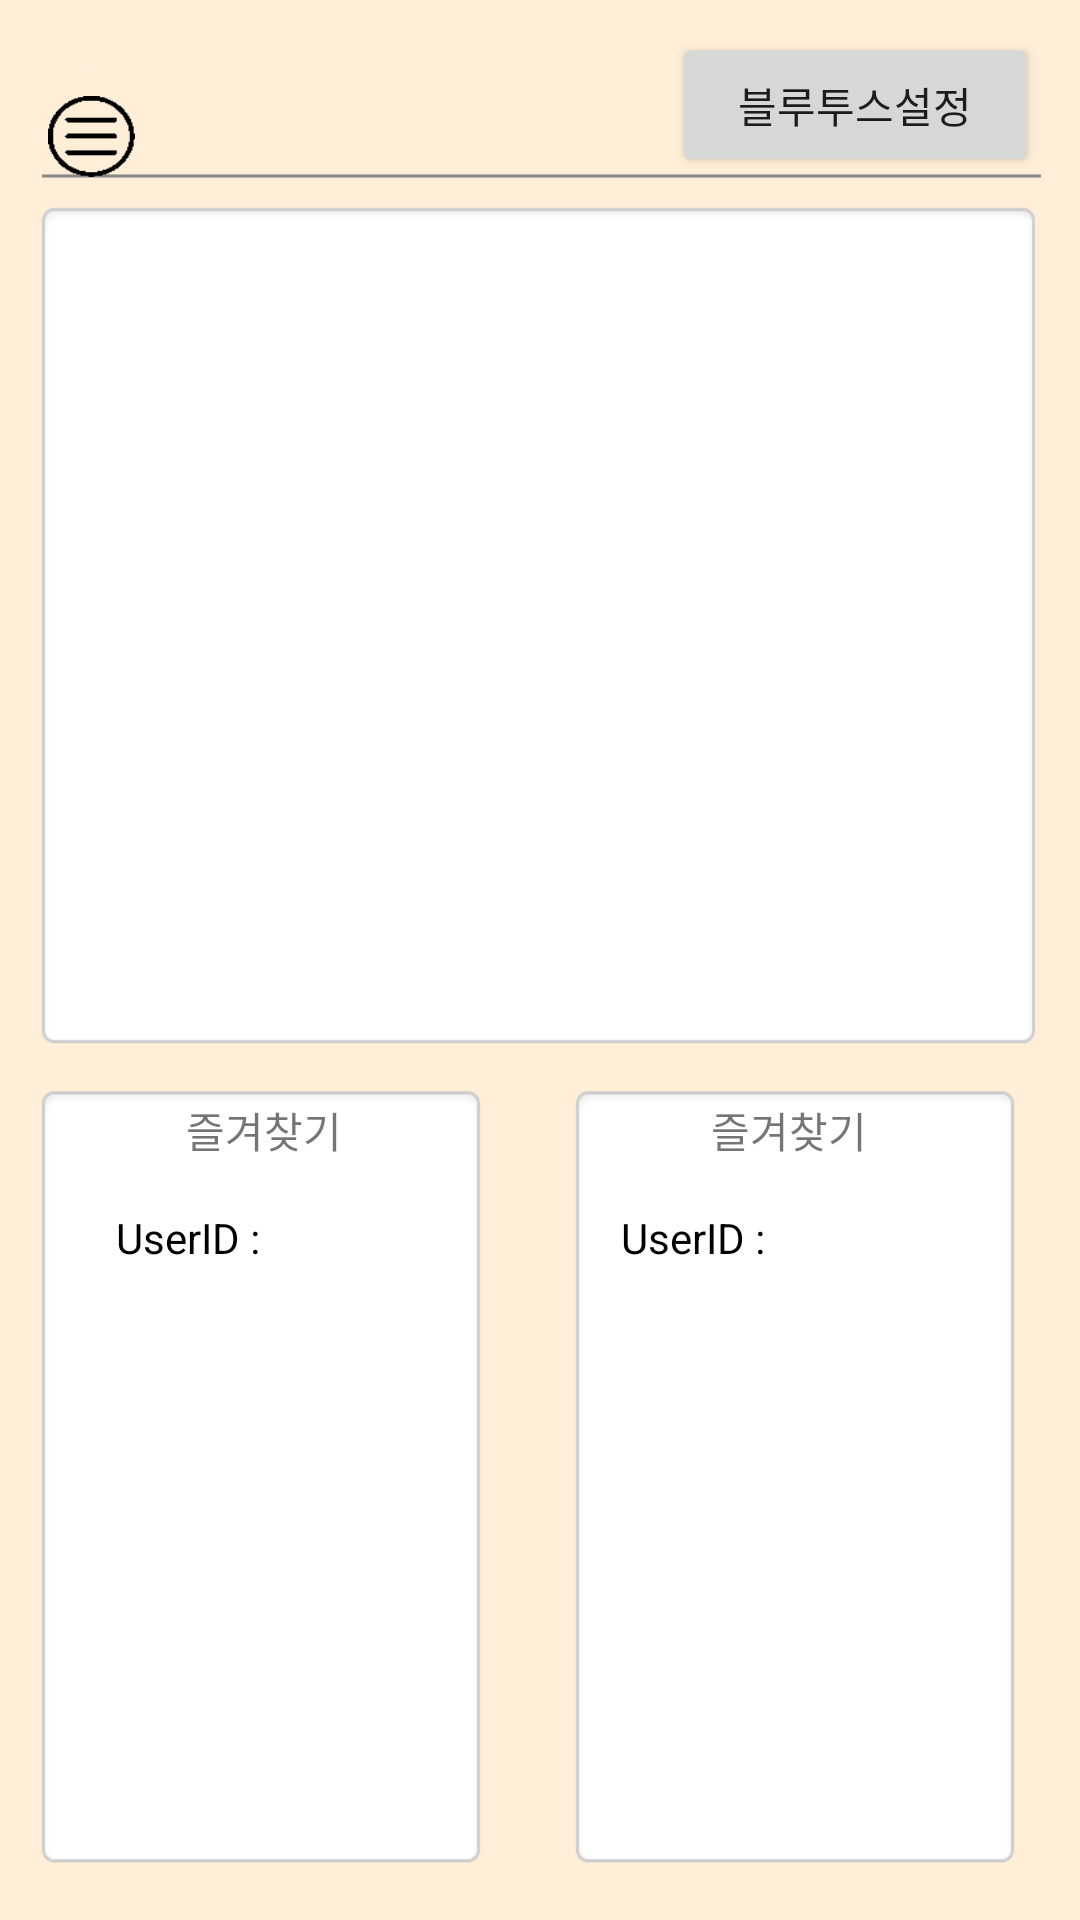

Icon click points for this 1080w x 1920h phone screenshot, format [x,y]:
imgbtn menuselect: [91,136]
